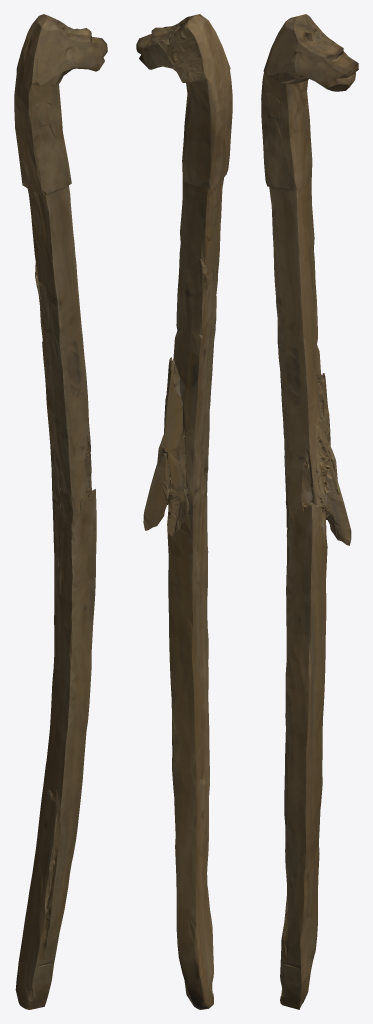
The model's file is horse-head-staff.glb.
3 views of the same model, side by side, from view 1: azimuth 30°, elevation 25°; view 2: azimuth 150°, elevation 25°; view 3: azimuth 330°, elevation 25° (orthographic).
Parts seen in each view (by area): view 1: Horse Head Staff; view 2: Horse Head Staff; view 3: Horse Head Staff.
Boxes of the visible parts, left/top/right/bottom form: Horse Head Staff: left=14, top=14, right=107, bottom=1009; Horse Head Staff: left=136, top=14, right=232, bottom=1009; Horse Head Staff: left=261, top=14, right=358, bottom=1009.
Bounding box in the file's own units: 0.0894 × 1 × 0.0595.
1 material, 1 textured.
